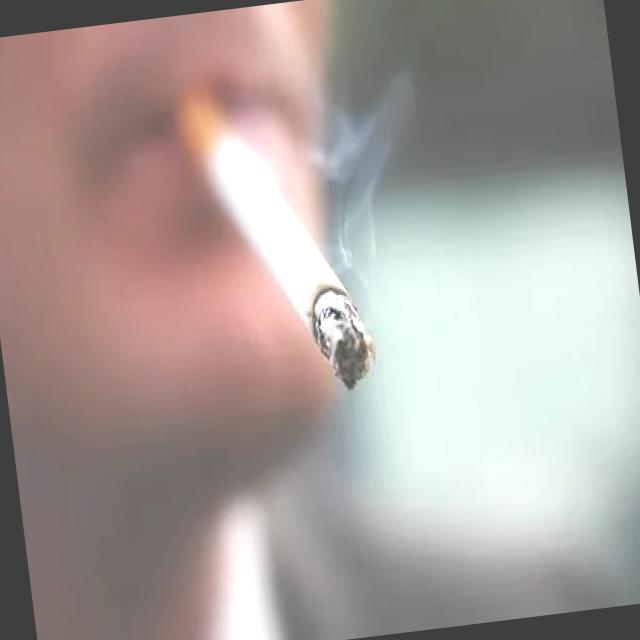cigarette: (169, 77, 390, 424)
